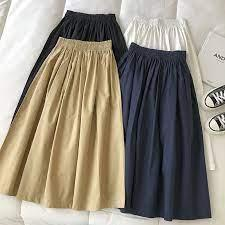skirt: (0, 32, 128, 210), (114, 39, 213, 222)
